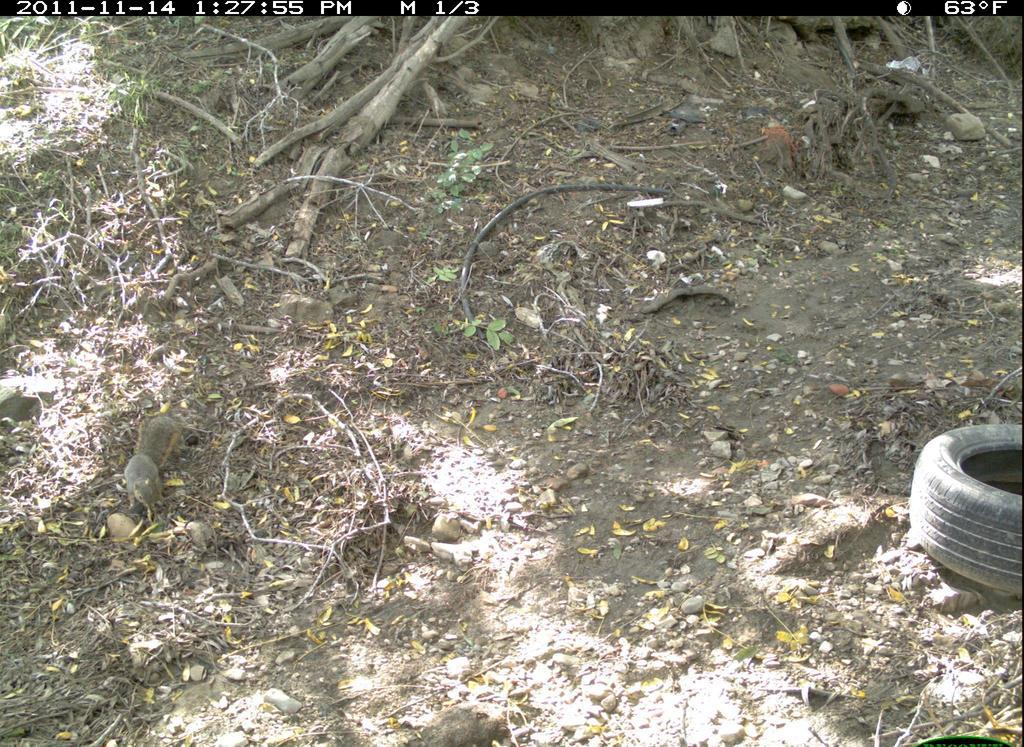squirrel: (104, 405, 204, 534)
